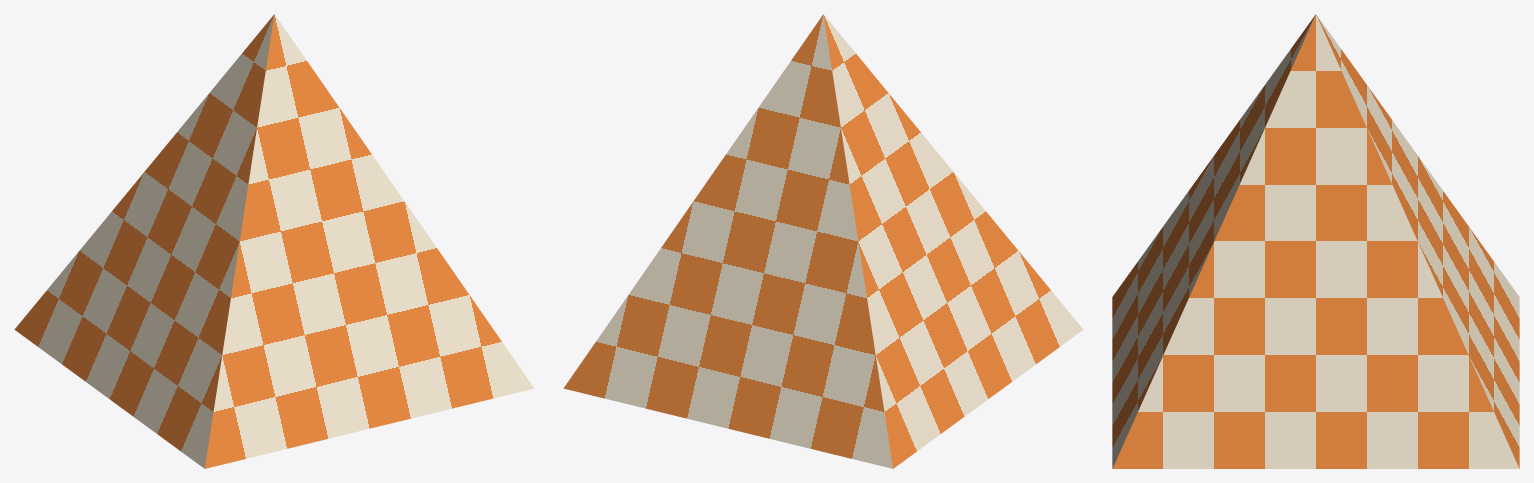
3 views of the same model, side by side, from view 1: azimuth 30°, elevation 25°; view 2: azimuth 150°, elevation 25°; view 3: azimuth 270°, elevation 25° (orthographic). The views are drawn at different scales.
Visible parts, largest first — view 1: Pyramid; view 2: Pyramid; view 3: Pyramid.
Part boxes in pixels (left/top/right/bottom): Pyramid: left=14, top=14, right=534, bottom=468; Pyramid: left=563, top=14, right=1083, bottom=468; Pyramid: left=1112, top=14, right=1519, bottom=468.
Bounding box in the file's own units: 1 × 1 × 1.
1 material, 1 textured.
